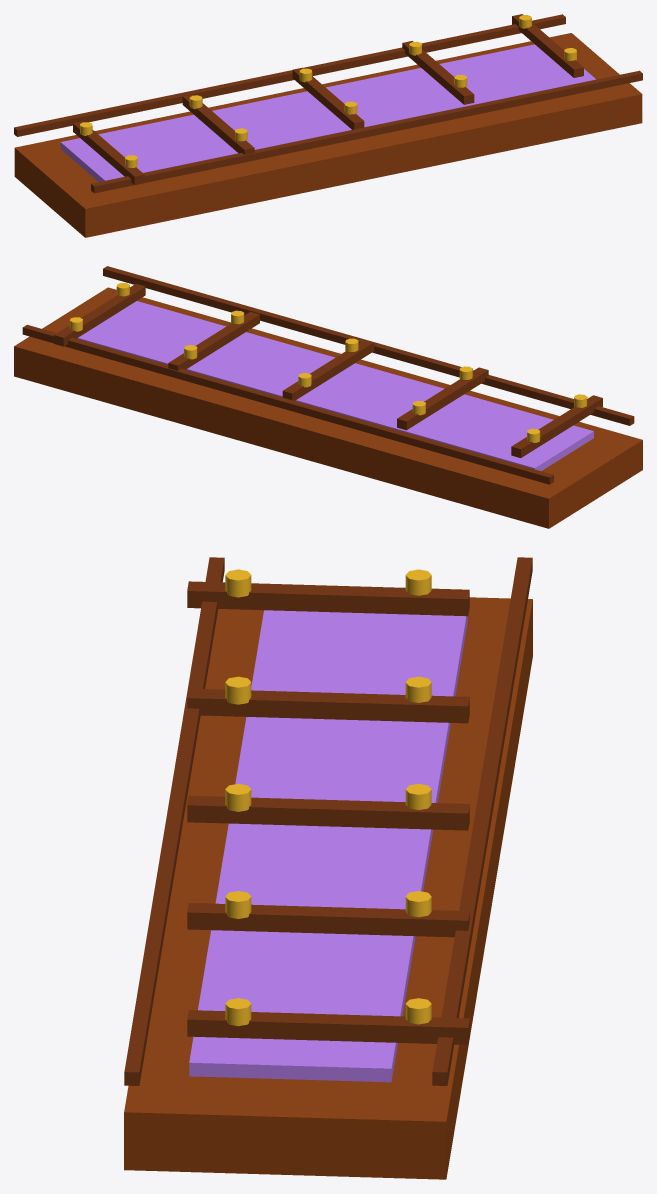
Rendered from toy_castle_tower_scaffold.glb.
3 renders of one model, top to bottom at view 1: azimuth 30°, elevation 25°; view 2: azimuth 150°, elevation 25°; view 3: azimuth 270°, elevation 25°, orthographic. The views are drawn at different scales.
Parts seen in each view (by area): view 1: solid_scaffold_plank, solid_soft_runner, solid_4, solid_3, solid_14, solid_17, solid_5, solid_11, solid_8; view 2: solid_scaffold_plank, solid_soft_runner, solid_3, solid_4, solid_11, solid_8, solid_5, solid_17, solid_14; view 3: solid_soft_runner, solid_scaffold_plank, solid_3, solid_4, solid_11, solid_8, solid_5, solid_17, solid_14.
Part boxes in pixels (box(x1,y1,x2,y2)): solid_scaffold_plank: box(14, 33, 642, 237); solid_soft_runner: box(60, 44, 595, 181); solid_4: box(91, 70, 642, 193); solid_3: box(14, 14, 565, 136); solid_14: box(402, 41, 474, 104); solid_17: box(512, 14, 583, 77); solid_5: box(73, 121, 144, 184); solid_11: box(292, 67, 364, 129); solid_8: box(182, 94, 254, 154); solid_scaffold_plank: box(14, 287, 642, 528); solid_soft_runner: box(76, 301, 593, 470); solid_3: box(22, 324, 553, 484); solid_4: box(103, 266, 634, 425); solid_11: box(282, 339, 374, 400); solid_8: box(397, 367, 488, 430); solid_5: box(511, 395, 602, 457); solid_17: box(54, 283, 145, 346); solid_14: box(168, 311, 259, 370); solid_soft_runner: box(189, 610, 467, 1082); solid_scaffold_plank: box(124, 597, 532, 1179); solid_3: box(432, 557, 532, 1085); solid_4: box(124, 557, 224, 1085); solid_11: box(187, 795, 469, 830); solid_8: box(187, 688, 469, 723); solid_5: box(187, 581, 469, 616); solid_17: box(187, 1010, 469, 1044); solid_14: box(187, 903, 469, 937).
Bounding box in the file's own units: 6.7 × 0.73 × 2.18.
